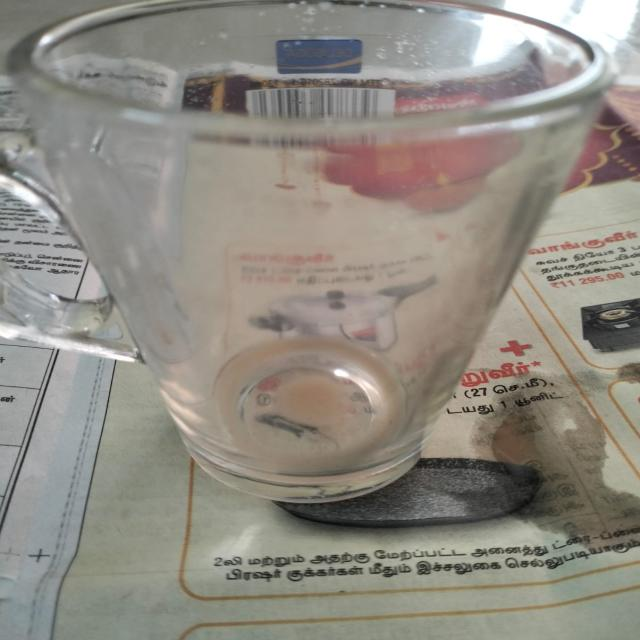glass-VX4N: (0, 0, 617, 499)
